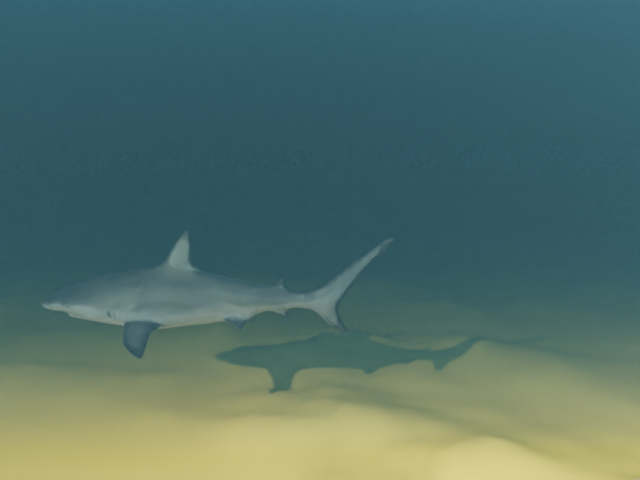Carribean Shark.001: (41, 231, 394, 358)
